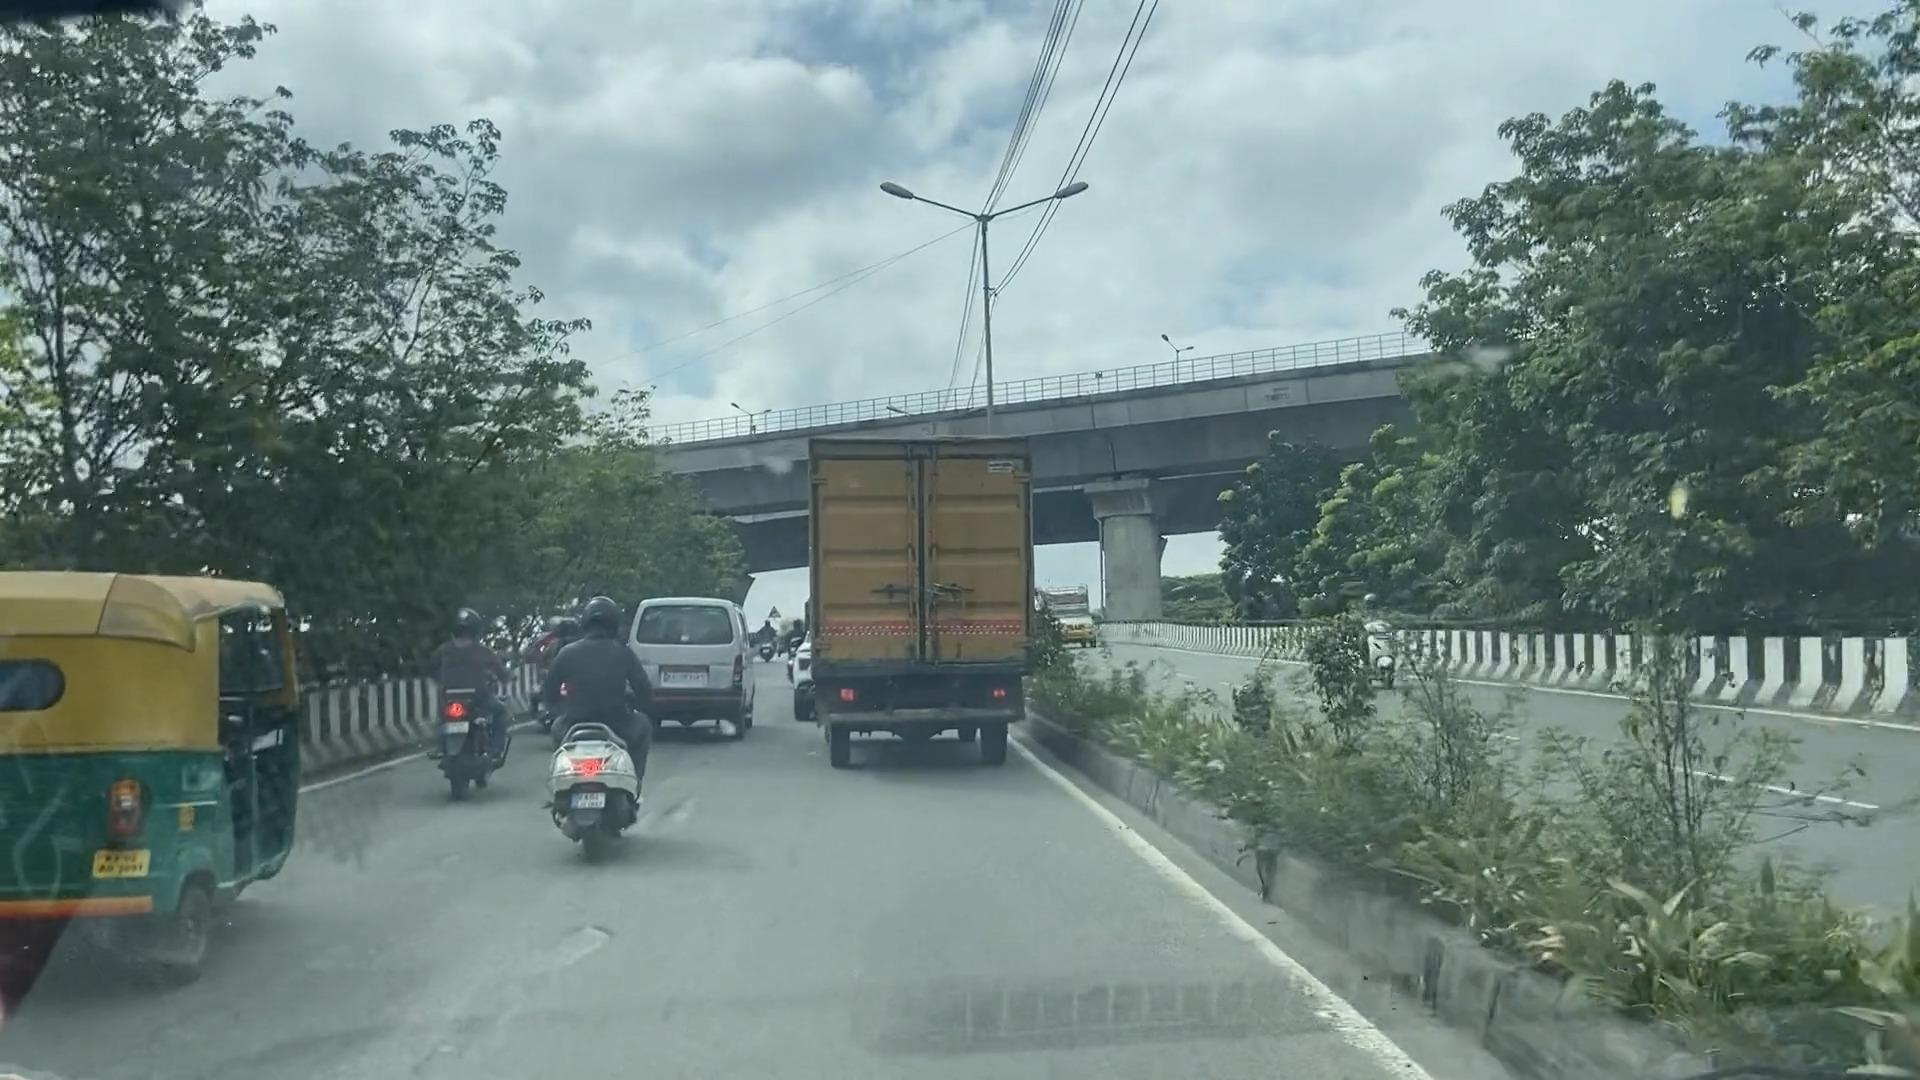HMV: (816, 443, 1029, 764)
LMV: (0, 576, 301, 994), (567, 611, 653, 828), (434, 587, 493, 794)
RoadDamages: (506, 903, 630, 968)
